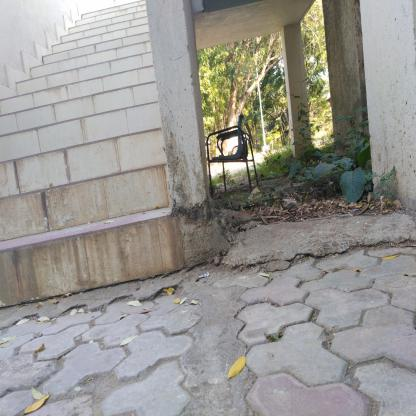stairs: (15, 81, 155, 315)
